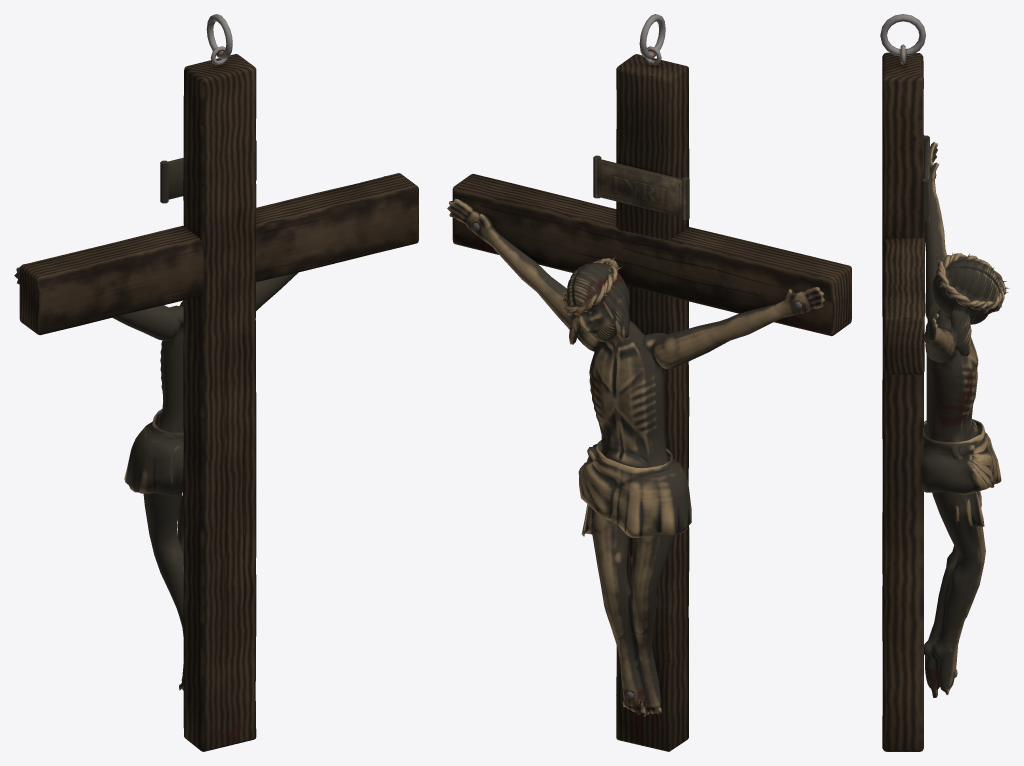
File: crucifixo.glb
The picture shows the model from 3 angles, left to right: view 1: azimuth 30°, elevation 25°; view 2: azimuth 150°, elevation 25°; view 3: azimuth 270°, elevation 25°; orthographic projection.
Visible parts, largest first — view 1: crucifixo; view 2: crucifixo; view 3: crucifixo.
Part boxes in pixels (x1=…): crucifixo: x1=14, y1=14, x2=418, y2=751; crucifixo: x1=447, y1=14, x2=851, y2=751; crucifixo: x1=880, y1=14, x2=1009, y2=751.
Bounding box in the file's own units: 0.0949 × 0.1718 × 0.0277.
1 material, 1 textured.
